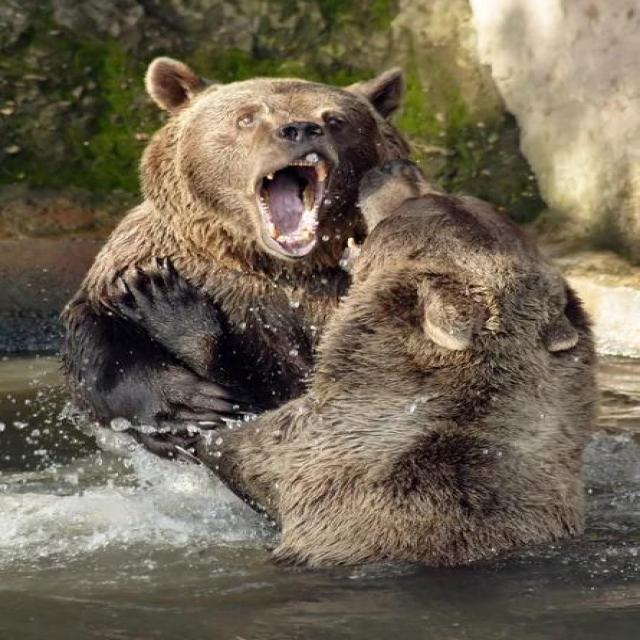Bear: (194, 164, 600, 573), (63, 59, 429, 457)
